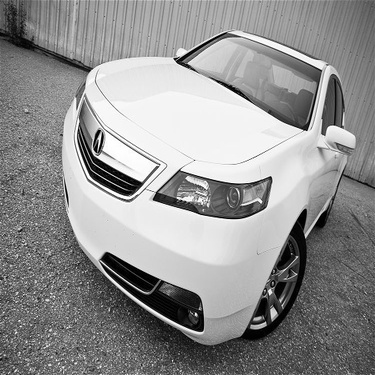car: (51, 19, 362, 351)
